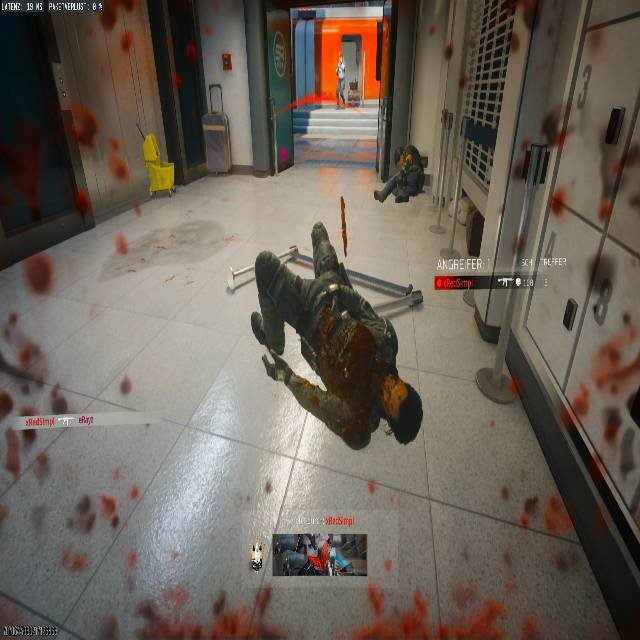head: (398, 145, 418, 164)
player: (372, 145, 429, 205), (337, 55, 358, 109)
